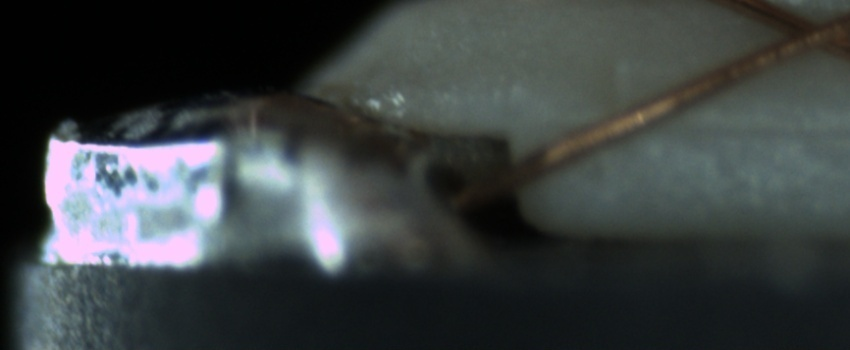CL: (761, 2, 844, 62)
DL: (666, 94, 850, 161)
